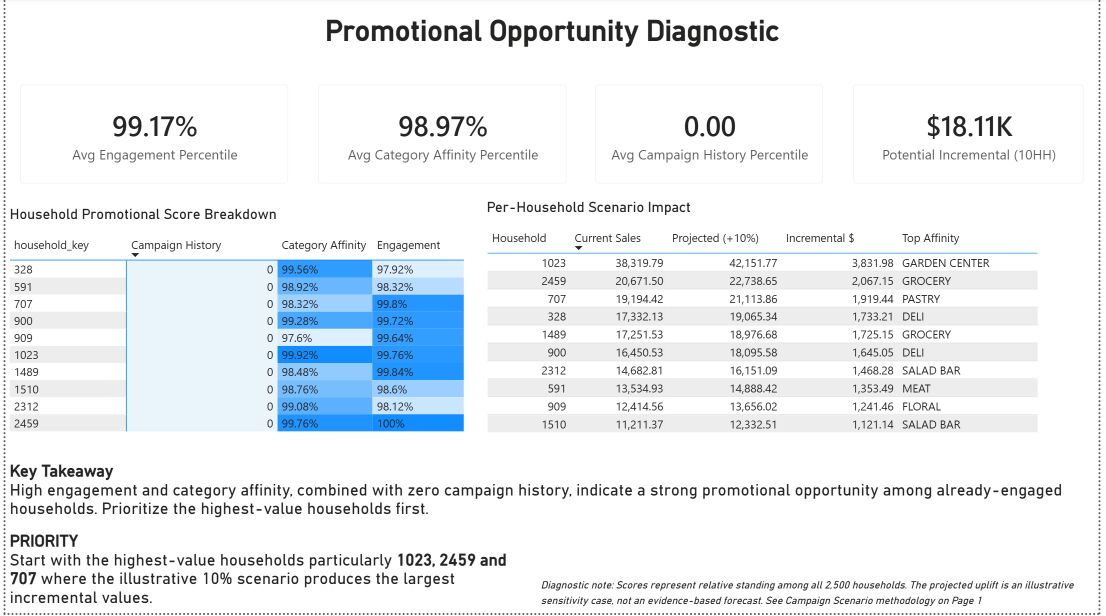

The dashboard page shown, as its layout file describes it:
{"tool":"powerbi","page":{"name":"Promotional Opportunity Diagnostic","canvas":[1280,720],"ordinal":2},"visuals":[{"type":"textbox","box":[0,0,1280,84.7],"z":0},{"type":"cardVisual","fields":{"Data":["Avg(promotional_opportunities.campaign_score_pct)"]},"box":[673.5,84.7,301.9,150.3],"z":1000},{"type":"cardVisual","fields":{"Data":["promotional_opportunities.Avg Category Affinity Percentile"]},"box":[348.3,84.7,325.1,150.3],"z":2000},{"type":"cardVisual","fields":{"Data":["promotional_opportunities.Avg Engagement Percentile"]},"box":[0,84.7,348,150],"z":3000},{"type":"cardVisual","fields":{"Data":["Sum(campaign_scenario.incremental_sales)"]},"box":[975.4,84.7,304.6,150.3],"z":4000},{"type":"pivotTable","title":"Household Promotional Score Breakdown","fields":{"Rows":["promotional_opportunities.household_key"],"Values":["Sum(promotional_opportunities.campaign_score_pct)","promotional_opportunities.Avg Category Affinity Percentile","promotional_opportunities.Avg Engagement Percentile"]},"box":[0,235,546.4,301.9],"z":5000},{"type":"tableEx","title":"Per-Household Scenario Impact","fields":{"Values":["promotional_opportunities.household_key","promotional_opportunities.sales","promotional_opportunities.Projected Sales","promotional_opportunities.Incremental Sales","promotional_opportunities.top_affinity_category"]},"box":[558.7,235,657.1,280],"z":6000},{"type":"textbox","box":[0,537.4,1279.6,82],"z":7000},{"type":"textbox","box":[621.7,635.7,658,85.5],"z":8000},{"type":"textbox","box":[0,619.3,621.7,101.9],"z":9000}]}

Visuals, with their boxes in screenshot pixels (x1, y1, x2, y2), scaled from the page's 1280x720 canvas onto the 1106x616 screenshot:
textbox: 0 0 1105 72
cardVisual - Avg(promotional_opportunities.campaign_score_pct): 582 72 843 201
cardVisual - promotional_opportunities.Avg Category Affinity Percentile: 301 72 582 201
cardVisual - promotional_opportunities.Avg Engagement Percentile: 0 72 301 201
cardVisual - Sum(campaign_scenario.incremental_sales): 843 72 1105 201
"Household Promotional Score Breakdown" pivotTable: 0 201 472 459
"Per-Household Scenario Impact" tableEx: 483 201 1051 441
textbox: 0 460 1105 530
textbox: 537 544 1105 615
textbox: 0 530 537 615
